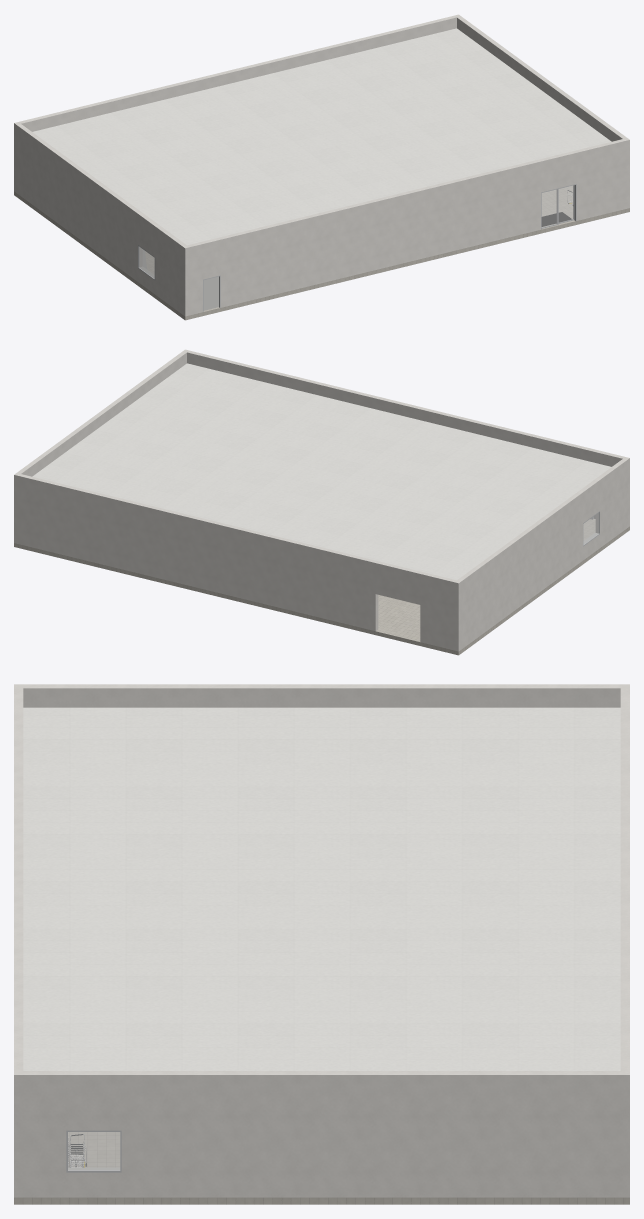
File: Supermarket_bake.gltf
The picture shows the model from 3 angles, top to bottom: view 1: azimuth 30°, elevation 25°; view 2: azimuth 150°, elevation 25°; view 3: azimuth 270°, elevation 25°; orthographic projection. The views are drawn at different scales.
Parts seen in each view (by area): view 1: SM_Ceiling, SM_ExtWall_S_02, SM_ExtWall_W_02, SM_ExtWall_N_02, SM_ExtWall_S_03, SM_FloorSlab, SM_ExtWall_E_02, SM_ExtWall_W_01, SM_ExtWall_S_01, SM_Entrance_WallAbove, SM_Exit_WallAbove, SM_Window_W_WallAbove (+5 smaller); view 2: SM_Ceiling, SM_ExtWall_N_02, SM_ExtWall_W_02, SM_FloorSlab, SM_ExtWall_S_02, SM_ExtWall_N_01, SM_ExtWall_E_02, SM_ExtWall_W_01, SM_R1Stock_Receiving_WallAbove, SM_ExtWall_S_03, SM_Window_W_WallAbove, SM_Entrance_WallAbove; view 3: SM_Ceiling, SM_ExtWall_E_02, SM_ExtWall_W_02, SM_FloorSlab, SM_ExtWall_E_01, SM_ExtWall_N_02, SM_Window_E_WallAbove, SM_ExtWall_S_02, SM_ExtWall_W_01, SM_Window_E_Glass, SM_ExtWall_S_03, SM_Window_W_WallAbove (+1 smaller).
Part boxes in pixels (left/top/right/bottom): SM_Ceiling: left=32, top=28, right=611, bottom=245; SM_ExtWall_S_02: left=218, top=159, right=540, bottom=307; SM_ExtWall_W_02: left=16, top=124, right=142, bottom=281; SM_ExtWall_N_02: left=97, top=14, right=460, bottom=115; SM_ExtWall_S_03: left=574, top=138, right=629, bottom=220; SM_FloorSlab: left=14, top=185, right=629, bottom=320; SM_ExtWall_E_02: left=457, top=16, right=599, bottom=129; SM_ExtWall_W_01: left=155, top=225, right=186, bottom=314; SM_ExtWall_S_01: left=182, top=242, right=202, bottom=316; SM_Entrance_WallAbove: left=539, top=151, right=576, bottom=192; SM_Exit_WallAbove: left=200, top=238, right=220, bottom=279; SM_Window_W_WallAbove: left=138, top=213, right=158, bottom=256; SM_Ceiling: left=32, top=363, right=611, bottom=580; SM_ExtWall_N_02: left=14, top=473, right=378, bottom=631; SM_ExtWall_W_02: left=457, top=491, right=582, bottom=649; SM_FloorSlab: left=14, top=519, right=629, bottom=655; SM_ExtWall_S_02: left=271, top=371, right=593, bottom=461; SM_ExtWall_N_01: left=420, top=572, right=461, bottom=651; SM_ExtWall_E_02: left=17, top=371, right=159, bottom=476; SM_ExtWall_W_01: left=595, top=459, right=627, bottom=547; SM_R1Stock_Receiving_WallAbove: left=375, top=561, right=422, bottom=604; SM_ExtWall_S_03: left=183, top=349, right=237, bottom=374; SM_Window_W_WallAbove: left=579, top=479, right=599, bottom=522; SM_Entrance_WallAbove: left=236, top=362, right=273, bottom=383; SM_Ceiling: left=23, top=707, right=620, bottom=1070; SM_ExtWall_E_02: left=121, top=1071, right=620, bottom=1197; SM_ExtWall_W_02: left=183, top=684, right=620, bottom=707; SM_FloorSlab: left=14, top=1132, right=629, bottom=1204; SM_ExtWall_E_01: left=23, top=1071, right=66, bottom=1197; SM_ExtWall_N_02: left=620, top=757, right=629, bottom=1197; SM_Window_E_WallAbove: left=66, top=1071, right=121, bottom=1130; SM_ExtWall_S_02: left=14, top=715, right=23, bottom=996; SM_ExtWall_W_01: left=23, top=684, right=121, bottom=707; SM_Window_E_Glass: left=68, top=1132, right=119, bottom=1170; SM_ExtWall_S_03: left=14, top=1028, right=23, bottom=1197; SM_Window_W_WallAbove: left=121, top=684, right=183, bottom=707.
Size of the model in its own units: 30 by 4.65 by 20.
Materials: 57 (22 with a texture image).
